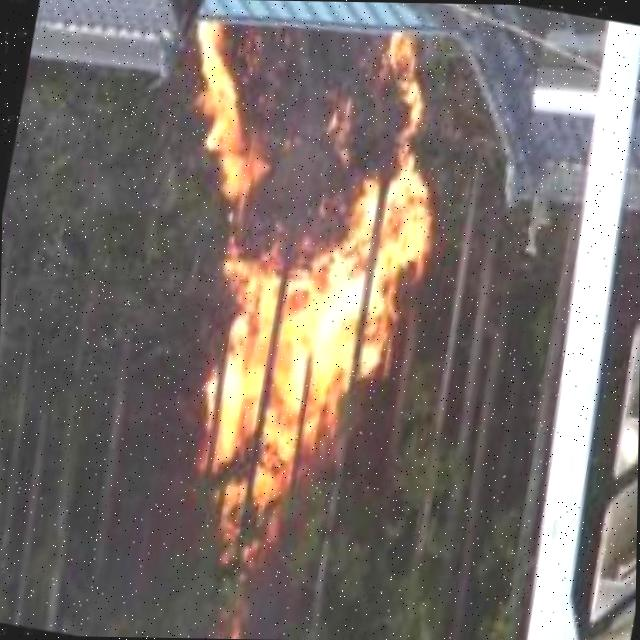fire: (107, 27, 457, 585)
